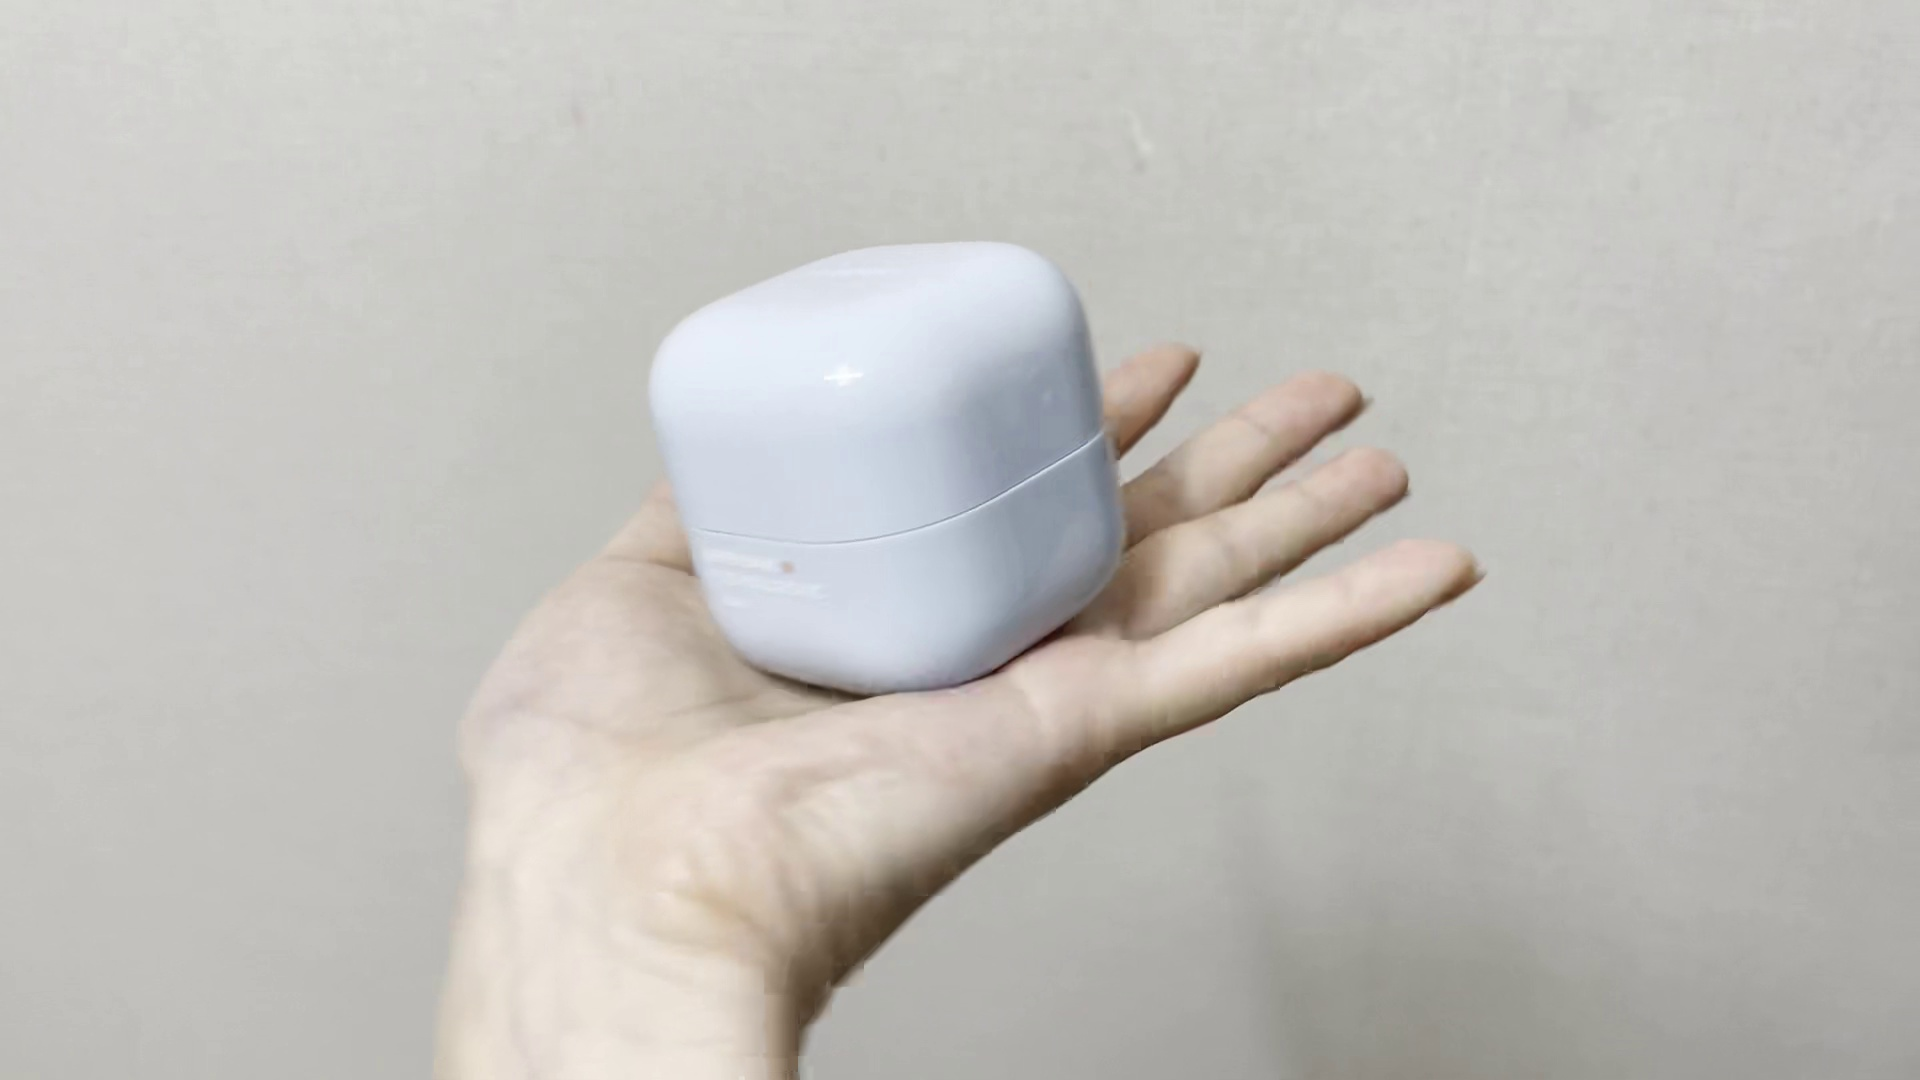cream: (644, 239, 1131, 690)
